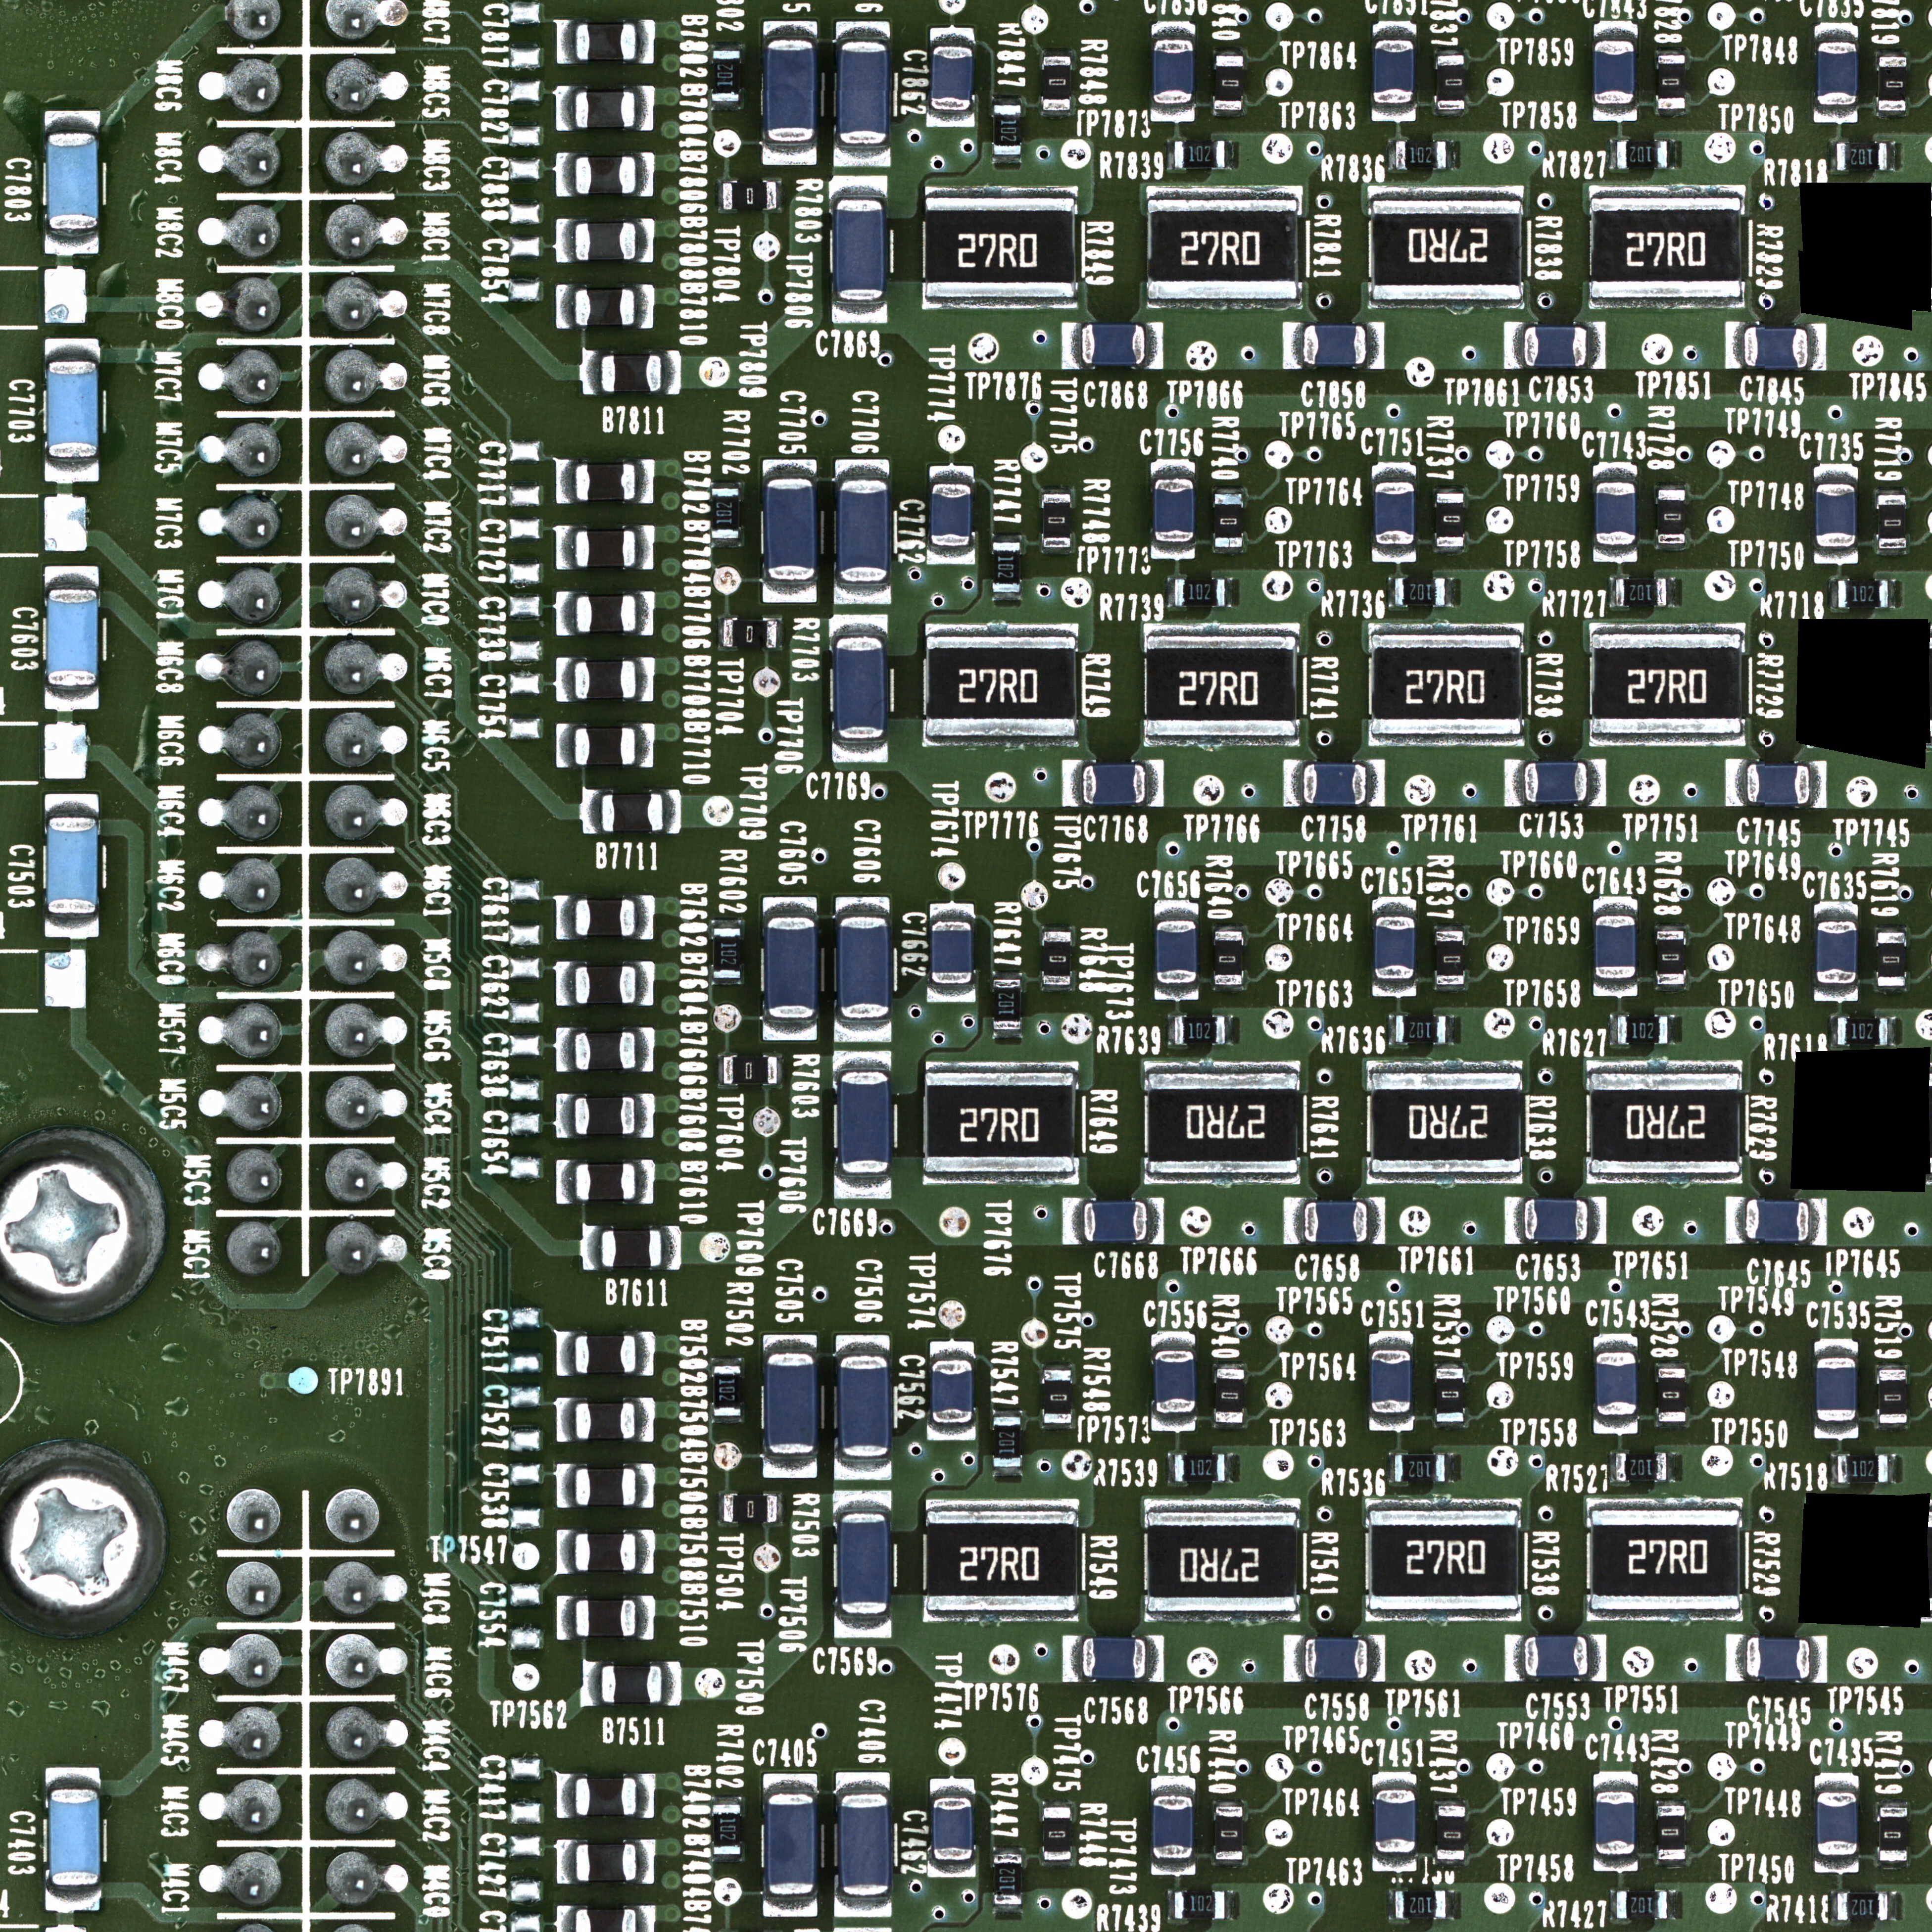Package: (1146, 1072, 1300, 1173), (1148, 198, 1299, 299), (1371, 1072, 1522, 1173), (1371, 200, 1523, 299), (1371, 635, 1523, 734), (925, 1072, 1074, 1173), (927, 1511, 1077, 1610), (1146, 637, 1297, 736), (1591, 1074, 1741, 1173), (925, 198, 1074, 297), (1148, 1513, 1297, 1612), (927, 637, 1076, 736), (1591, 198, 1741, 295), (1368, 1511, 1518, 1608), (1591, 639, 1743, 734), (1591, 1511, 1739, 1608), (840, 1355, 892, 1458), (766, 1353, 817, 1454), (771, 918, 823, 1019), (766, 39, 816, 142), (840, 1513, 890, 1615), (839, 479, 888, 582), (766, 1794, 816, 1895), (835, 200, 885, 301), (835, 639, 885, 740), (766, 479, 816, 580), (839, 918, 888, 1017), (840, 1072, 888, 1175), (839, 42, 886, 143), (840, 1794, 888, 1895), (48, 133, 96, 230), (48, 817, 96, 913), (51, 1790, 99, 1886), (48, 363, 96, 458), (48, 591, 96, 686), (1523, 1200, 1589, 1240), (1746, 1637, 1808, 1679), (1081, 324, 1145, 364), (1594, 41, 1635, 104), (1154, 478, 1194, 541), (1152, 1796, 1192, 1859), (1596, 1352, 1637, 1415), (1594, 1790, 1635, 1854), (1375, 39, 1414, 104), (1746, 1200, 1808, 1240), (1083, 1638, 1145, 1679), (1375, 1790, 1415, 1852), (1154, 1352, 1194, 1414), (1375, 916, 1415, 978), (931, 483, 971, 545), (932, 1361, 973, 1422), (1304, 1203, 1368, 1242), (1817, 1357, 1856, 1421), (1371, 1350, 1410, 1414), (1157, 920, 1196, 984), (1744, 327, 1808, 366), (1154, 39, 1192, 103), (1596, 481, 1635, 545), (932, 46, 971, 110), (1817, 483, 1856, 547), (1817, 1792, 1856, 1854), (1304, 326, 1366, 364), (1083, 764, 1145, 803), (1085, 1201, 1146, 1240), (1525, 763, 1587, 801), (1525, 1637, 1587, 1675), (1525, 327, 1587, 366), (1306, 1640, 1368, 1679), (932, 922, 971, 984), (1375, 481, 1414, 543), (1596, 916, 1635, 978), (1819, 41, 1856, 104), (1817, 922, 1856, 982), (1304, 764, 1364, 803), (1748, 764, 1808, 803), (932, 1799, 971, 1859), (575, 1778, 637, 1815), (575, 1534, 637, 1571), (573, 662, 635, 699), (575, 1162, 635, 1200), (575, 464, 635, 501), (577, 1844, 637, 1881), (575, 1336, 635, 1373), (575, 727, 635, 764), (575, 1468, 635, 1506), (575, 288, 635, 326), (575, 899, 635, 936), (575, 223, 635, 260), (575, 1031, 635, 1069), (603, 1667, 662, 1704), (603, 1230, 662, 1267), (577, 1599, 635, 1637), (602, 356, 662, 391), (602, 794, 662, 830), (575, 596, 635, 632), (577, 25, 637, 60), (575, 968, 635, 1003), (575, 531, 635, 566), (575, 1099, 635, 1134), (577, 157, 635, 193), (577, 1403, 635, 1438), (575, 92, 633, 127), (1437, 1805, 1465, 1861), (1879, 1369, 1907, 1424), (1215, 1368, 1244, 1422), (1879, 1808, 1907, 1861), (1877, 932, 1905, 985), (724, 1495, 777, 1523), (724, 1056, 777, 1085), (724, 619, 777, 648), (1617, 1890, 1667, 1920), (1215, 931, 1242, 985), (1879, 57, 1905, 111), (1660, 1368, 1686, 1422), (1437, 1368, 1463, 1422), (1658, 55, 1684, 110), (1438, 55, 1465, 110), (1658, 1805, 1684, 1859), (1877, 495, 1905, 547), (1617, 140, 1668, 168), (1215, 1806, 1242, 1859), (1215, 57, 1242, 110), (1044, 1808, 1070, 1861), (1658, 490, 1684, 543), (1215, 494, 1242, 547), (1044, 494, 1070, 547), (1437, 931, 1463, 984), (1044, 57, 1070, 110), (1658, 931, 1684, 984), (1437, 494, 1463, 547), (1044, 1369, 1070, 1422), (713, 929, 741, 978), (1617, 1453, 1667, 1481), (1044, 932, 1070, 984), (715, 1366, 741, 1417), (994, 104, 1021, 156), (1175, 1454, 1226, 1481), (994, 1854, 1021, 1905), (1396, 142, 1447, 168), (1838, 1893, 1888, 1920), (994, 1417, 1021, 1467), (713, 51, 740, 101), (1838, 1456, 1888, 1483), (1396, 579, 1445, 605), (994, 980, 1021, 1030), (1396, 1454, 1445, 1481), (1838, 580, 1888, 607), (1175, 1891, 1224, 1918), (1175, 142, 1224, 168), (1836, 143, 1886, 170), (713, 488, 738, 540), (724, 184, 775, 209), (1177, 1017, 1224, 1044), (1619, 1017, 1667, 1044), (994, 543, 1019, 593), (715, 1805, 740, 1854), (1396, 1017, 1445, 1042), (1617, 580, 1667, 605), (1396, 1893, 1445, 1918), (1175, 580, 1224, 605), (1838, 1019, 1888, 1044)
Solder: (1585, 1060, 1743, 1074), (1589, 623, 1746, 637), (1145, 1499, 1300, 1513), (1585, 1499, 1743, 1511), (1364, 1608, 1522, 1621), (1364, 1499, 1522, 1511), (1366, 1171, 1523, 1184), (1366, 1060, 1523, 1072), (1143, 1173, 1300, 1185), (922, 1173, 1079, 1185), (1366, 734, 1523, 747), (1589, 734, 1746, 747), (1143, 623, 1300, 635), (922, 736, 1079, 748), (1146, 186, 1304, 198), (1366, 186, 1523, 198), (1589, 186, 1746, 198), (1587, 1610, 1743, 1622), (924, 1610, 1079, 1622), (922, 297, 1077, 310), (1146, 299, 1302, 311), (1589, 295, 1744, 308), (925, 1499, 1079, 1511), (925, 623, 1079, 635), (925, 186, 1079, 198), (1143, 1612, 1300, 1622), (1585, 1173, 1741, 1184), (1143, 1062, 1299, 1072), (1368, 623, 1523, 633), (1145, 736, 1300, 747), (925, 1062, 1079, 1072), (44, 1886, 101, 1913), (833, 1175, 892, 1200), (835, 1017, 892, 1042), (1368, 301, 1525, 310), (828, 175, 888, 198), (44, 458, 99, 483), (44, 686, 99, 711), (44, 230, 99, 255), (833, 1458, 892, 1481), (833, 1615, 892, 1638), (833, 1490, 892, 1513), (833, 582, 892, 605), (832, 614, 888, 637), (832, 740, 888, 763), (832, 301, 888, 324), (763, 1456, 817, 1479), (44, 110, 99, 133), (833, 1897, 892, 1918), (833, 145, 892, 166), (833, 1051, 892, 1072), (837, 19, 890, 42), (46, 338, 99, 361), (46, 915, 97, 938), (763, 143, 817, 165), (763, 1773, 817, 1794), (835, 1334, 890, 1355), (46, 1767, 101, 1789), (763, 1897, 817, 1918), (763, 582, 817, 603), (837, 1773, 890, 1794), (44, 566, 97, 587), (46, 794, 97, 816), (837, 895, 888, 916), (835, 458, 890, 478), (1504, 759, 1525, 807), (1283, 759, 1304, 807), (764, 897, 816, 916), (764, 1021, 816, 1040), (1587, 1635, 1608, 1681), (763, 460, 817, 478), (763, 1334, 817, 1352), (763, 19, 817, 37), (931, 1776, 975, 1798), (1592, 1414, 1637, 1435), (582, 1661, 603, 1706), (556, 1840, 577, 1884), (1063, 1198, 1083, 1246), (1587, 759, 1606, 807), (1063, 759, 1083, 807), (1062, 1635, 1081, 1683), (1727, 759, 1746, 807), (1062, 322, 1081, 370), (1366, 322, 1385, 370), (1364, 759, 1384, 807), (1506, 1635, 1525, 1681), (1727, 1635, 1746, 1681), (1284, 1635, 1304, 1681), (1284, 1198, 1304, 1244), (1283, 322, 1302, 368), (556, 458, 575, 504), (1504, 322, 1523, 368), (556, 961, 575, 1007), (556, 1529, 575, 1575), (635, 1093, 655, 1138), (635, 285, 655, 329), (635, 1398, 655, 1442), (635, 1596, 655, 1640), (662, 1661, 681, 1706), (662, 789, 681, 833), (662, 1226, 681, 1270), (556, 591, 575, 635), (1813, 901, 1858, 920), (931, 27, 975, 46), (556, 285, 575, 329), (582, 350, 602, 395), (556, 525, 575, 570), (556, 724, 575, 768), (582, 789, 602, 833), (582, 1226, 602, 1270), (556, 1398, 575, 1442), (1373, 543, 1417, 563), (1813, 104, 1858, 124), (1587, 322, 1605, 370), (1589, 1196, 1606, 1244), (1506, 1196, 1523, 1244), (1810, 1635, 1828, 1683), (927, 985, 975, 1003), (1808, 1198, 1826, 1246), (1727, 1196, 1744, 1244), (927, 1422, 975, 1440), (927, 547, 975, 564), (1368, 1196, 1385, 1244), (1368, 1635, 1385, 1683), (1810, 322, 1828, 370), (931, 464, 973, 483), (1594, 462, 1637, 481), (662, 352, 681, 395), (1594, 1771, 1637, 1790), (1373, 462, 1415, 481), (931, 902, 973, 922), (556, 154, 575, 196), (637, 1775, 656, 1817), (635, 961, 653, 1007), (637, 1529, 655, 1575), (929, 1859, 975, 1877), (1592, 1334, 1638, 1352), (556, 218, 573, 264), (1725, 322, 1743, 368), (1146, 1198, 1164, 1244), (556, 656, 573, 702), (927, 110, 973, 127), (1592, 978, 1638, 996), (1145, 322, 1162, 368), (556, 1093, 573, 1139), (1154, 984, 1200, 1001), (1592, 545, 1638, 563), (635, 152, 653, 196), (635, 87, 653, 131), (637, 1332, 655, 1376), (637, 19, 655, 64), (635, 895, 653, 939), (637, 1838, 655, 1882), (635, 1028, 653, 1072), (557, 1159, 575, 1203), (556, 87, 573, 131), (635, 1161, 653, 1205), (1369, 1414, 1414, 1431), (556, 895, 573, 939), (1373, 1771, 1417, 1789), (1152, 1414, 1196, 1431), (557, 1463, 575, 1507), (557, 1596, 575, 1640), (556, 1028, 573, 1072), (1815, 1856, 1859, 1874), (1813, 465, 1858, 483), (1371, 104, 1415, 122), (557, 19, 575, 64), (637, 724, 655, 768), (557, 1775, 575, 1819), (1152, 1778, 1196, 1796), (1369, 1330, 1414, 1348), (1373, 1854, 1417, 1872), (1813, 984, 1858, 1001), (1813, 547, 1858, 564), (1373, 21, 1417, 39), (1152, 21, 1196, 39), (637, 1465, 655, 1507), (635, 219, 653, 262), (931, 1341, 973, 1359), (1815, 1773, 1858, 1790), (1373, 897, 1415, 915), (1815, 23, 1858, 41), (1594, 21, 1637, 39), (1594, 897, 1637, 915), (1815, 1339, 1858, 1357), (1152, 104, 1194, 122), (1594, 1854, 1637, 1872), (1815, 1421, 1858, 1438), (1594, 104, 1637, 122), (1152, 1332, 1194, 1350), (1155, 902, 1198, 920), (1373, 978, 1415, 996), (637, 656, 653, 702), (637, 591, 653, 637), (1146, 761, 1162, 807), (1150, 1859, 1196, 1875), (1150, 543, 1196, 559), (637, 525, 653, 570), (637, 460, 653, 504), (1810, 763, 1826, 807), (557, 1332, 573, 1376), (1152, 460, 1194, 476), (1226, 1453, 1240, 1483), (1668, 1890, 1679, 1920), (1224, 1891, 1235, 1921), (1445, 1890, 1456, 1920), (1888, 1891, 1898, 1921), (1608, 1888, 1617, 1921), (1829, 1890, 1838, 1923), (1829, 1014, 1838, 1047), (1433, 485, 1467, 494), (1668, 1014, 1677, 1046), (1667, 1451, 1675, 1483), (993, 1468, 1024, 1477), (1610, 1014, 1619, 1046), (1654, 984, 1686, 993), (1445, 577, 1454, 609), (1875, 548, 1907, 557), (1888, 577, 1897, 609), (711, 540, 743, 548), (711, 1357, 743, 1366), (1667, 577, 1675, 607), (993, 1905, 1023, 1914), (1387, 1890, 1396, 1920), (1445, 1453, 1454, 1483), (1888, 1017, 1897, 1047), (993, 1030, 1023, 1039), (993, 971, 1023, 980), (993, 533, 1023, 541), (1224, 577, 1233, 607), (1608, 577, 1617, 607), (1608, 140, 1617, 170), (1447, 140, 1456, 170), (1387, 140, 1396, 170), (1212, 110, 1242, 119), (1224, 140, 1233, 170), (1166, 140, 1175, 170), (993, 96, 1023, 104), (711, 42, 741, 51), (711, 101, 741, 110), (1828, 142, 1836, 172), (711, 479, 741, 488), (1668, 140, 1677, 168), (1168, 1451, 1175, 1486), (1224, 1016, 1233, 1044), (1445, 1016, 1454, 1044), (1042, 48, 1070, 57), (1435, 1799, 1468, 1806), (1654, 924, 1688, 931), (717, 616, 724, 649), (775, 616, 782, 649), (717, 1491, 724, 1525), (993, 1847, 1024, 1854), (1608, 1451, 1615, 1483), (1389, 1453, 1396, 1484), (1040, 1422, 1072, 1430), (1042, 1362, 1074, 1369), (1212, 985, 1244, 993), (1875, 985, 1907, 993), (1040, 487, 1072, 494), (1654, 543, 1686, 550), (1875, 487, 1907, 494), (1829, 577, 1836, 609), (1875, 111, 1907, 119), (1654, 110, 1686, 117), (1433, 110, 1465, 117), (1433, 48, 1465, 55), (777, 1054, 784, 1086), (717, 1054, 724, 1086), (711, 978, 743, 985), (711, 920, 743, 927), (711, 1417, 741, 1424), (1042, 1799, 1072, 1806), (1168, 1890, 1175, 1920), (1656, 1859, 1686, 1867), (1831, 1454, 1838, 1484), (1877, 1424, 1907, 1431), (993, 1410, 1023, 1417), (1214, 1422, 1244, 1430), (1890, 1453, 1897, 1483), (1042, 984, 1072, 991), (1042, 925, 1072, 932), (1214, 924, 1244, 931), (1168, 1016, 1175, 1046), (1435, 985, 1465, 993), (1435, 924, 1465, 931), (1168, 577, 1175, 607), (1435, 547, 1465, 554), (1877, 50, 1907, 57), (1656, 48, 1686, 55), (1040, 110, 1070, 117), (991, 156, 1021, 163), (717, 180, 724, 211), (1888, 142, 1895, 172), (711, 1796, 741, 1803), (777, 1493, 784, 1523), (713, 1854, 741, 1861), (1879, 1362, 1907, 1369), (1389, 1016, 1396, 1044), (1042, 547, 1070, 554), (1214, 547, 1242, 554), (1214, 487, 1242, 494), (1215, 48, 1244, 55), (993, 593, 1019, 600), (1433, 1861, 1467, 1867), (1656, 1362, 1688, 1368), (1433, 1422, 1465, 1428), (1433, 1362, 1465, 1368), (1214, 1362, 1246, 1368), (1389, 577, 1394, 609), (1656, 1799, 1686, 1805), (1877, 1801, 1907, 1806), (1877, 1861, 1907, 1867), (1656, 1422, 1686, 1428), (1877, 927, 1907, 932), (1656, 483, 1686, 488), (777, 180, 782, 211), (1215, 1801, 1244, 1806), (1215, 1859, 1244, 1865), (1042, 1859, 1070, 1865)
